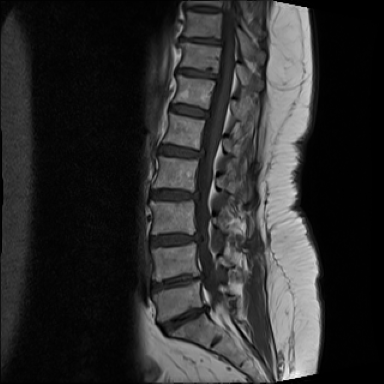Degenerative Disc Disease (DDD): (158, 301, 218, 340), (149, 268, 192, 298), (182, 2, 225, 18), (202, 268, 211, 298)
Lumbar Disc Bulge (LDB): (154, 303, 213, 340), (148, 269, 193, 300), (147, 228, 205, 252), (141, 184, 202, 205), (154, 142, 209, 164), (204, 269, 211, 300)
Spinal Stenosis (SS): (193, 142, 209, 164), (189, 227, 206, 247), (189, 185, 203, 205), (211, 66, 225, 85), (199, 300, 214, 317), (200, 106, 214, 123), (216, 37, 227, 49), (204, 269, 210, 287)
Thoracic Disc Bulge (TDB): (172, 64, 223, 84), (166, 101, 213, 122), (176, 35, 226, 50)
